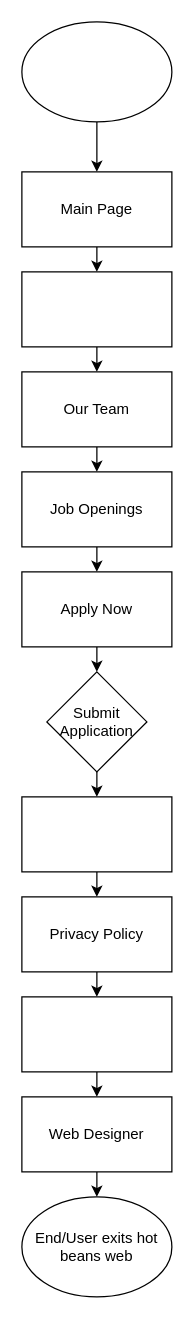
Image size: 194x1319. Some labels were removed from this diagram. The shapes that lost their labels are listed below. From the top down, each one's centre as x and y in pixels, then its label:
At point 96,71: "Start/User enters hot beans web".
At point 96,309: "Company Profile".
At point 96,834: "Courses".
At point 96,1034: "Web Developer".
